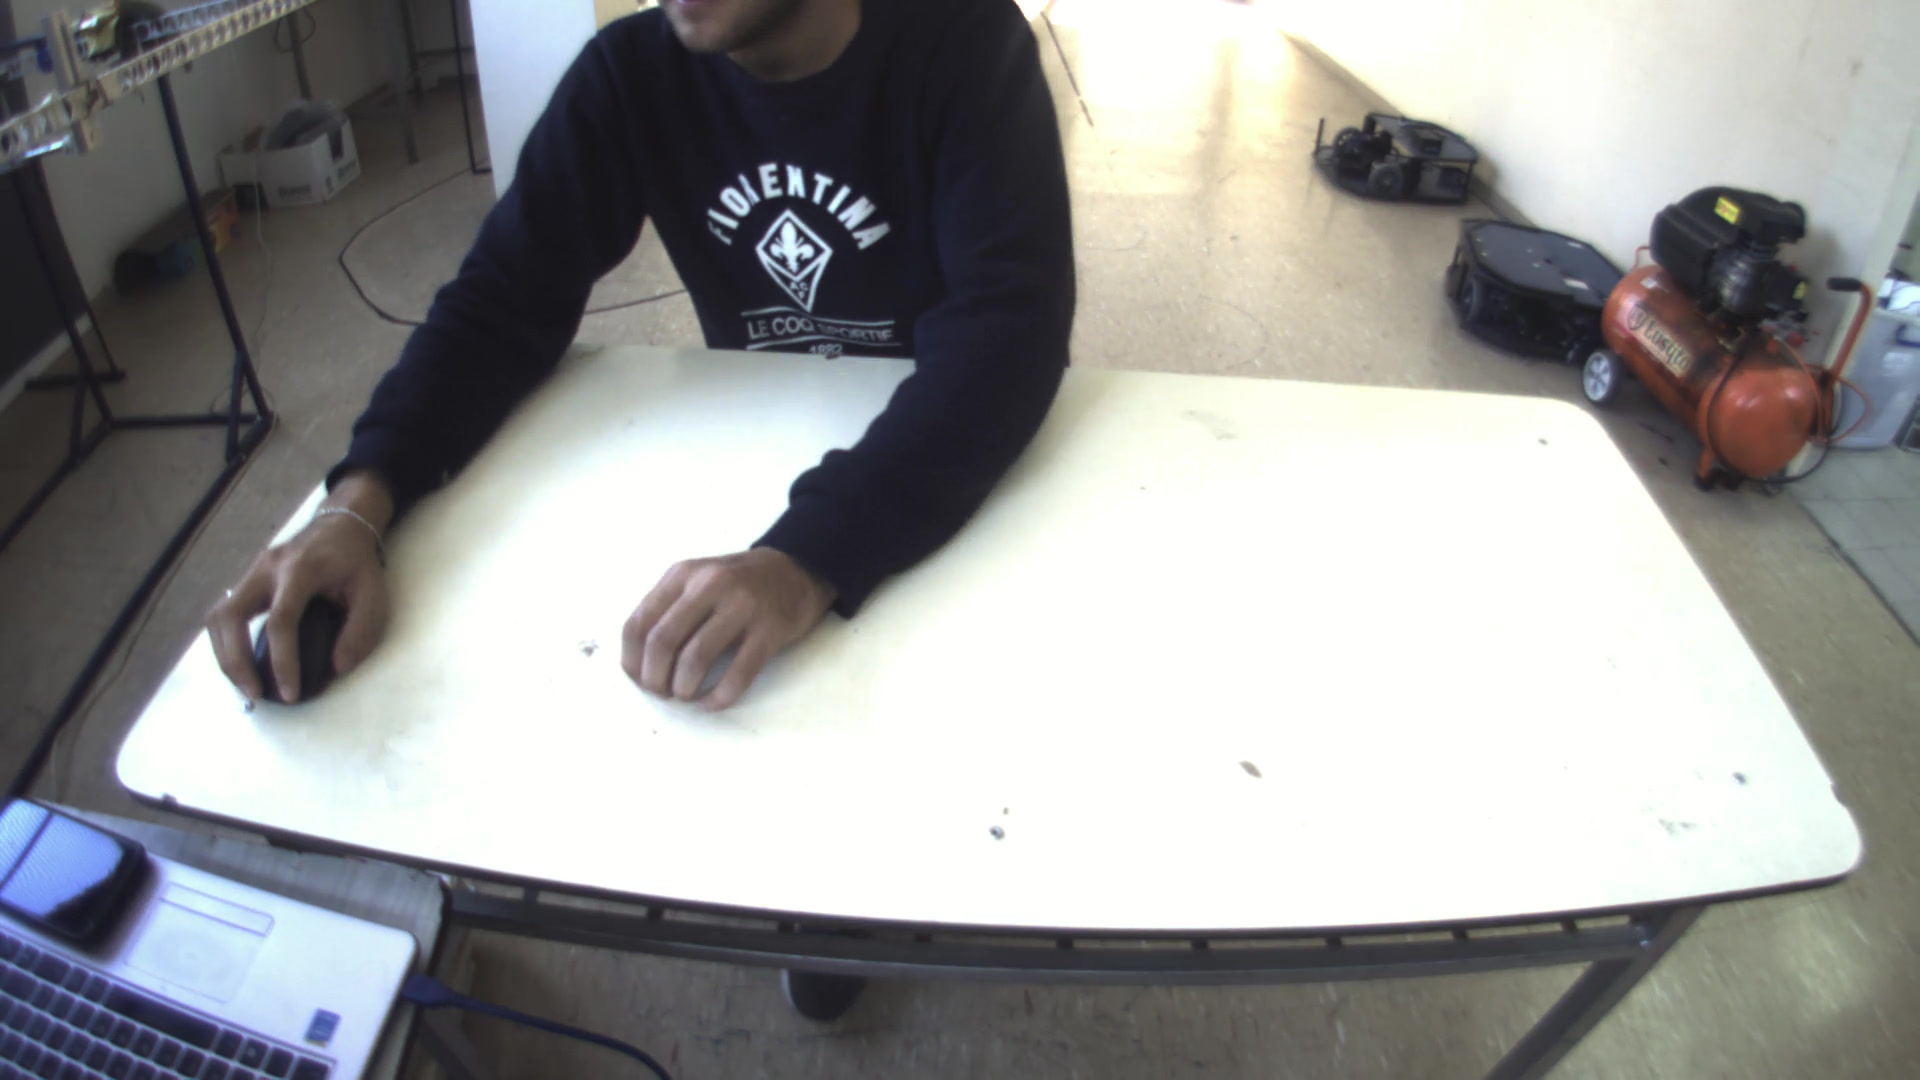hand: (195, 504, 402, 721), (615, 529, 819, 717)
